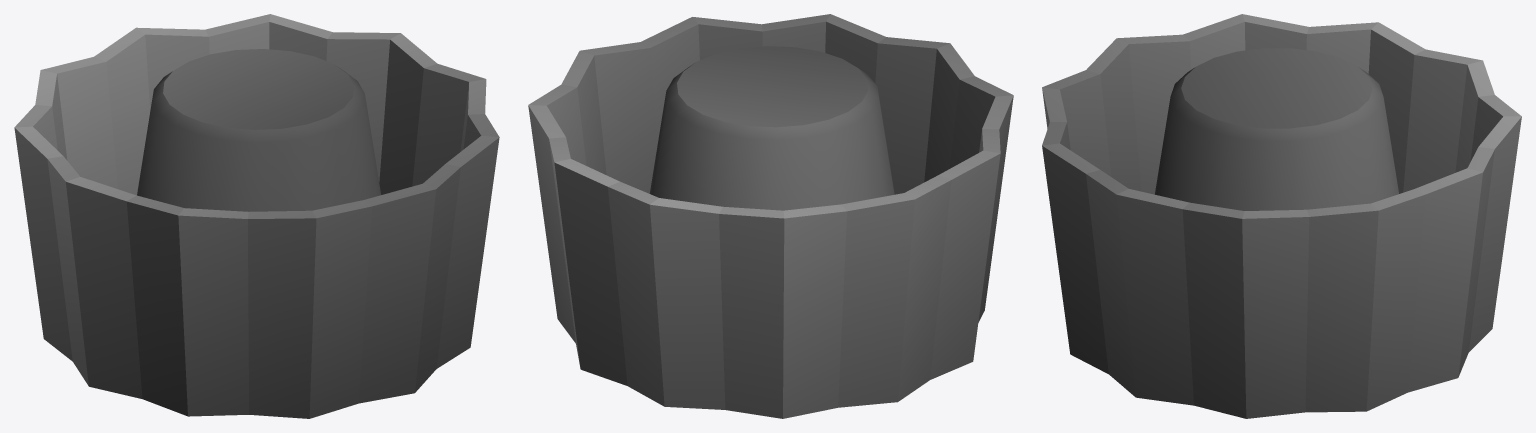
Rendered from Cake Maker_3.glb.
3 renders of one model, left to right at view 1: azimuth 30°, elevation 25°; view 2: azimuth 150°, elevation 25°; view 3: azimuth 270°, elevation 25°, orthographic.
Visible parts, largest first — view 1: Cake Maker_3; view 2: Cake Maker_3; view 3: Cake Maker_3.
Part boxes in pixels (box(x1,y1,x2,y2)): Cake Maker_3: box(14, 14, 499, 418); Cake Maker_3: box(528, 14, 1013, 418); Cake Maker_3: box(1042, 14, 1521, 418).
Size of the model in its own units: 0.2627 by 0.1437 by 0.2601.
Materials: 1 (1 with a texture image).
